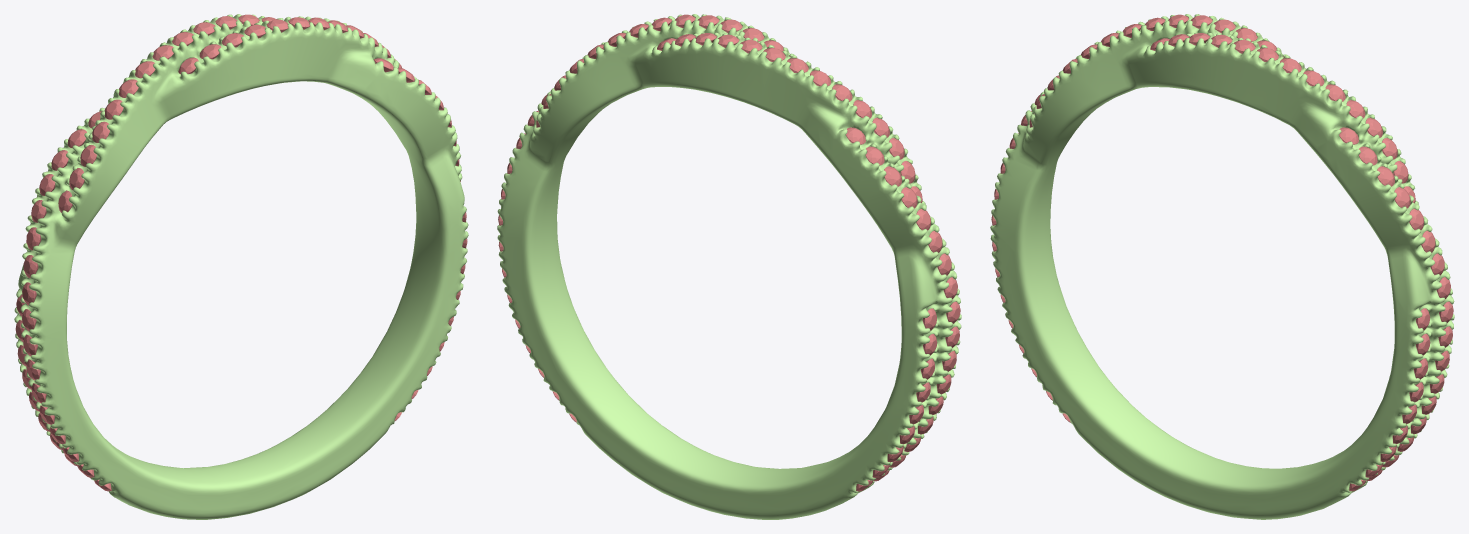
File: BE2M9856_RENDER.glb
The picture shows the model from 3 angles, left to right: view 1: azimuth 30°, elevation 25°; view 2: azimuth 150°, elevation 25°; view 3: azimuth 330°, elevation 25°; orthographic projection.
Visible parts, largest first — view 1: Metal03; view 2: Metal03; view 3: Metal03.
Boxes of the visible parts, x1,y1,x2,y2 form: Metal03: [14, 14, 468, 519]; Metal03: [497, 14, 961, 519]; Metal03: [990, 14, 1454, 519].
Bounding box in the file's own units: 19.94 × 20.63 × 2.47.
